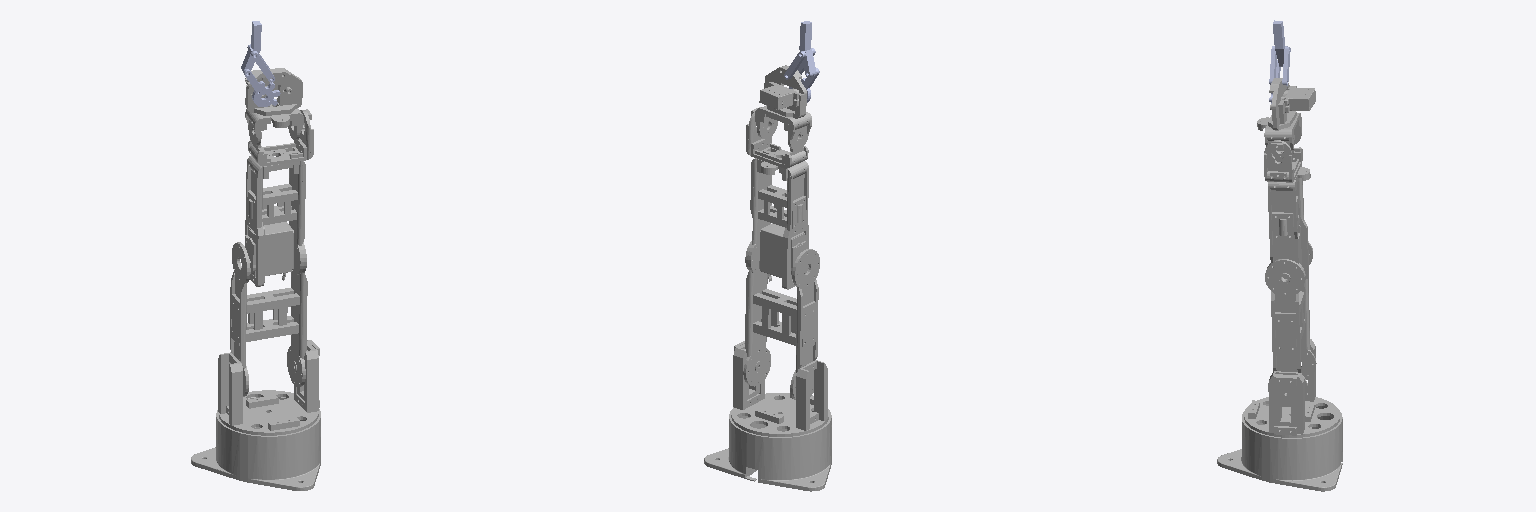
URDF robot description (arm6):
<?xml version="1.0" encoding="utf-8"?>
<!-- This URDF was automatically created by SolidWorks to URDF Exporter! Originally created by [author] ([email redacted]) 
     Commit Version: 1.5.1-0-g916b5db  Build Version: 1.5.7152.31018
     For more information, please see http://wiki.ros.org/sw_urdf_exporter -->
<robot
  name="arm6">
  <link
    name="base_link">
    <inertial>
      <origin
        xyz="0.0025699 0.018343 -0.0035516"
        rpy="0 0 0" />
      <mass
        value="0.080527" />
      <inertia
        ixx="8.5011E-05"
        ixy="-4.4803E-08"
        ixz="-2.4994E-08"
        iyy="0.00013493"
        iyz="7.0751E-07"
        izz="7.7024E-05" />
    </inertial>
    <visual>
      <origin
        xyz="0 0 0"
        rpy="0 0 0" />
      <geometry>
        <mesh
          filename="package://arm6/meshes/base_link.STL" />
      </geometry>
      <material
        name="">
        <color
          rgba="0.75294 0.75294 0.75294 1" />
      </material>
    </visual>
    <collision>
      <origin
        xyz="0 0 0"
        rpy="0 0 0" />
      <geometry>
        <mesh
          filename="package://arm6/meshes/base_link.STL" />
      </geometry>
    </collision>
  </link>
  <link
    name="link1">
    <inertial>
      <origin
        xyz="-0.00097471 0.019452 0.0084302"
        rpy="0 0 0" />
      <mass
        value="0.041022" />
      <inertia
        ixx="1.4592E-05"
        ixy="4.4471E-08"
        ixz="3.0619E-09"
        iyy="1.9389E-05"
        iyz="7.3619E-08"
        izz="1.6253E-05" />
    </inertial>
    <visual>
      <origin
        xyz="0 0 0"
        rpy="0 0 0" />
      <geometry>
        <mesh
          filename="package://arm6/meshes/link1.STL" />
      </geometry>
      <material
        name="">
        <color
          rgba="0.75294 0.75294 0.75294 1" />
      </material>
    </visual>
    <collision>
      <origin
        xyz="0 0 0"
        rpy="0 0 0" />
      <geometry>
        <mesh
          filename="package://arm6/meshes/link1.STL" />
      </geometry>
    </collision>
  </link>
  <joint
    name="joint1"
    type="revolute">
    <origin
      xyz="0.0026463 0.0049398 0.04496"
      rpy="1.5708 0 1.4304" />
    <parent
      link="base_link" />
    <child
      link="link1" />
    <axis
      xyz="0 1 0" />
    <limit
      lower="0"
      upper="3.14"
      effort="1000"
      velocity="0.5" />
  </joint>
  <link
    name="link2">
    <inertial>
      <origin
        xyz="-6.80132374197085E-05 -0.000509605797240987 0.0539996933218626"
        rpy="0 0 0" />
      <mass
        value="0.0414613966028284" />
      <inertia
        ixx="1.54305820269731E-05"
        ixy="4.94111116844552E-13"
        ixz="4.55040447076694E-14"
        iyy="1.50643216488916E-05"
        iyz="6.26163158068131E-14"
        izz="4.37391113912375E-06" />
    </inertial>
    <visual>
      <origin
        xyz="0 0 0"
        rpy="0 0 0" />
      <geometry>
        <mesh
          filename="package://arm6/meshes/link2.STL" />
      </geometry>
      <material
        name="">
        <color
          rgba="0.752941176470588 0.752941176470588 0.752941176470588 1" />
      </material>
    </visual>
    <collision>
      <origin
        xyz="0 0 0"
        rpy="0 0 0" />
      <geometry>
        <mesh
          filename="package://arm6/meshes/link2.STL" />
      </geometry>
    </collision>
  </link>
  <joint
    name="joint2"
    type="revolute">
    <origin
      xyz="3.0015E-05 0.041 0"
      rpy="1.5708 0 -3.116" />
    <parent
      link="link1" />
    <child
      link="link2" />
    <axis
      xyz="0 1 0" />
    <limit
      lower="-1.6"
      upper="1.3"
      effort="1000"
      velocity="0.5" />
  </joint>
  <link
    name="link3">
    <inertial>
      <origin
        xyz="-0.0311099325222994 -0.00225344494559382 -1.91307068253717E-06"
        rpy="0 0 0" />
      <mass
        value="0.0658200101560818" />
      <inertia
        ixx="7.86222075945111E-06"
        ixy="-8.36392374641642E-08"
        ixz="-1.37262764925889E-08"
        iyy="1.47453732760464E-05"
        iyz="-5.47960448092616E-09"
        izz="1.63736233959189E-05" />
    </inertial>
    <visual>
      <origin
        xyz="0 0 0"
        rpy="0 0 0" />
      <geometry>
        <mesh
          filename="package://arm6/meshes/link3.STL" />
      </geometry>
      <material
        name="">
        <color
          rgba="0.752941176470588 0.752941176470588 0.752941176470588 1" />
      </material>
    </visual>
    <collision>
      <origin
        xyz="0 0 0"
        rpy="0 0 0" />
      <geometry>
        <mesh
          filename="package://arm6/meshes/link3.STL" />
      </geometry>
    </collision>
  </link>
  <joint
    name="joint3"
    type="revolute">
    <origin
      xyz="0 0 0.108"
      rpy="0 1.5638 -3.1416" />
    <parent
      link="link2" />
    <child
      link="link3" />
    <axis
      xyz="0 1 0" />
    <limit
      lower="-1.65"
      upper="1.65"
      effort="1000"
      velocity="0.5" />
  </joint>
  <link
    name="link4">
    <inertial>
      <origin
        xyz="0.00657752074369524 0.0110900696105489 -0.000109852993894719"
        rpy="0 0 0" />
      <mass
        value="0.00956010328119119" />
      <inertia
        ixx="1.15486832102682E-06"
        ixy="-2.98014165137459E-09"
        ixz="-3.78545136921672E-09"
        iyy="1.32006578279176E-06"
        iyz="9.29795755317563E-10"
        izz="1.44364757305361E-06" />
    </inertial>
    <visual>
      <origin
        xyz="0 0 0"
        rpy="0 0 0" />
      <geometry>
        <mesh
          filename="package://arm6/meshes/link4.STL" />
      </geometry>
      <material
        name="">
        <color
          rgba="0.752941176470588 0.752941176470588 0.752941176470588 1" />
      </material>
    </visual>
    <collision>
      <origin
        xyz="0 0 0"
        rpy="0 0 0" />
      <geometry>
        <mesh
          filename="package://arm6/meshes/link4.STL" />
      </geometry>
    </collision>
  </link>
  <joint
    name="joint4"
    type="continuous">
    <origin
      xyz="-0.094454 -0.0046887 -0.00010907"
      rpy="3.1416 0.05093 -1.5708" />
    <parent
      link="link3" />
    <child
      link="link4" />
    <axis
      xyz="0 1 0" />
    <limit
      lower="0"
      upper="3.14"
      effort="1000"
      velocity="0.5" />
  </joint>
  <link
    name="link5">
    <inertial>
      <origin
        xyz="0.00217332604355169 -0.0107064950023859 0.000807126036274978"
        rpy="0 0 0" />
      <mass
        value="0.0104094964784874" />
      <inertia
        ixx="1.1608882607873E-06"
        ixy="5.83959045595652E-11"
        ixz="1.04503579359297E-12"
        iyy="1.41493044654704E-06"
        iyz="1.84590722625473E-08"
        izz="1.10691247113427E-06" />
    </inertial>
    <visual>
      <origin
        xyz="0 0 0"
        rpy="0 0 0" />
      <geometry>
        <mesh
          filename="package://arm6/meshes/link5.STL" />
      </geometry>
      <material
        name="">
        <color
          rgba="0.752941176470588 0.752941176470588 0.752941176470588 1" />
      </material>
    </visual>
    <collision>
      <origin
        xyz="0 0 0"
        rpy="0 0 0" />
      <geometry>
        <mesh
          filename="package://arm6/meshes/link5.STL" />
      </geometry>
    </collision>
  </link>
  <joint
    name="joint5"
    type="continuous">
    <origin
      xyz="0 0.029245 0"
      rpy="-0.050149 0 3.1416" />
    <parent
      link="link4" />
    <child
      link="link5" />
    <axis
      xyz="1 0 0" />
    <limit
      lower="-1.5"
      upper="1.5"
      effort="1000"
      velocity="0.5" />
  </joint>
  <link
    name="link6">
    <inertial>
      <origin
        xyz="0.00355369325583584 0.00672795414607942 -0.0197013535906811"
        rpy="0 0 0" />
      <mass
        value="0.0162635418979813" />
      <inertia
        ixx="1.6520950247655E-06"
        ixy="2.25815994801074E-08"
        ixz="-5.23393376333948E-08"
        iyy="2.98019626244616E-06"
        iyz="-7.07074751383588E-09"
        izz="2.41097503544118E-06" />
    </inertial>
    <visual>
      <origin
        xyz="0 0 0"
        rpy="0 0 0" />
      <geometry>
        <mesh
          filename="package://arm6/meshes/link6.STL" />
      </geometry>
      <material
        name="">
        <color
          rgba="0.752941176470588 0.752941176470588 0.752941176470588 1" />
      </material>
    </visual>
    <collision>
      <origin
        xyz="0 0 0"
        rpy="0 0 0" />
      <geometry>
        <mesh
          filename="package://arm6/meshes/link6.STL" />
      </geometry>
    </collision>
  </link>
  <joint
    name="joint6"
    type="continuous">
    <origin
      xyz="0.0021483 -0.015913 0"
      rpy="-1.5708 0.069434 0" />
    <parent
      link="link5" />
    <child
      link="link6" />
    <axis
      xyz="0 0 1" />
    <limit
      lower="0"
      upper="3.14"
      effort="1000"
      velocity="0.5" />
  </joint>
  <link
    name="link7">
    <inertial>
      <origin
        xyz="0.0159668313458721 -0.00389256056709586 0.00303417659498181"
        rpy="0 0 0" />
      <mass
        value="0.00577849924861781" />
      <inertia
        ixx="2.86765341671413E-07"
        ixy="8.9335506155727E-23"
        ixz="2.07873608968326E-07"
        iyy="8.6349921527881E-07"
        iyz="-7.94093388050907E-23"
        izz="6.11747990058614E-07" />
    </inertial>
    <visual>
      <origin
        xyz="0 0 0"
        rpy="0 0 0" />
      <geometry>
        <mesh
          filename="package://arm6/meshes/link7.STL" />
      </geometry>
      <material
        name="">
        <color
          rgba="0.792156862745098 0.819607843137255 0.933333333333333 1" />
      </material>
    </visual>
    <collision>
      <origin
        xyz="0 0 0"
        rpy="0 0 0" />
      <geometry>
        <mesh
          filename="package://arm6/meshes/link7.STL" />
      </geometry>
    </collision>
  </link>
  <joint
    name="joint7"
    type="revolute">
    <origin
      xyz="0.00645 0 -0.038758"
      rpy="0 1.0171 0" />
    <parent
      link="link6" />
    <child
      link="link7" />
    <axis
      xyz="0 1 0" />
    <limit
      lower="-0.6"
      upper="0"
      effort="1000"
      velocity="0.5" />
  </joint>
</robot>

--- What the picture shows (computed from the rendered views, not written in the file) ---
3 views of the same robot in one strip: view 1: azimuth 30°, elevation 25°; view 2: azimuth 150°, elevation 25°; view 3: azimuth 270°, elevation 25° (orthographic).
Model arm6 with 8 links and 7 joints (4 revolute, 3 continuous), rooted at base_link, posed all joints at 0.
Visible links, largest first — view 1: link3, base_link, link2, link1, link6, link4, link7, link5; view 2: link2, link3, base_link, link1, link6, link4, link5, link7; view 3: base_link, link2, link1, link3, link6, link4, link7, link5.
Link boxes in pixels (x1,y1,x2,y2): link3: (245, 146, 305, 286); base_link: (191, 397, 320, 490); link2: (230, 242, 307, 396); link1: (218, 340, 319, 435); link6: (245, 68, 302, 115); link4: (248, 109, 313, 166); link7: (241, 21, 280, 106); link5: (245, 108, 303, 145); link2: (743, 241, 819, 399); link3: (748, 151, 808, 289); base_link: (704, 399, 831, 491); link1: (731, 341, 828, 436); link6: (759, 65, 806, 118); link4: (746, 107, 808, 168); link5: (755, 105, 811, 149); link7: (784, 21, 819, 102); base_link: (1217, 404, 1342, 491); link2: (1265, 241, 1316, 397); link1: (1244, 339, 1339, 437); link3: (1267, 165, 1310, 283); link6: (1268, 78, 1315, 130); link4: (1264, 140, 1302, 182); link7: (1269, 20, 1290, 103); link5: (1257, 113, 1301, 161).
Size in the robot's own frame: 0.1186 by 0.1116 by 0.4249 metres.
8 mesh visuals loaded from 8 distinct referenced files (8 binary STL).
